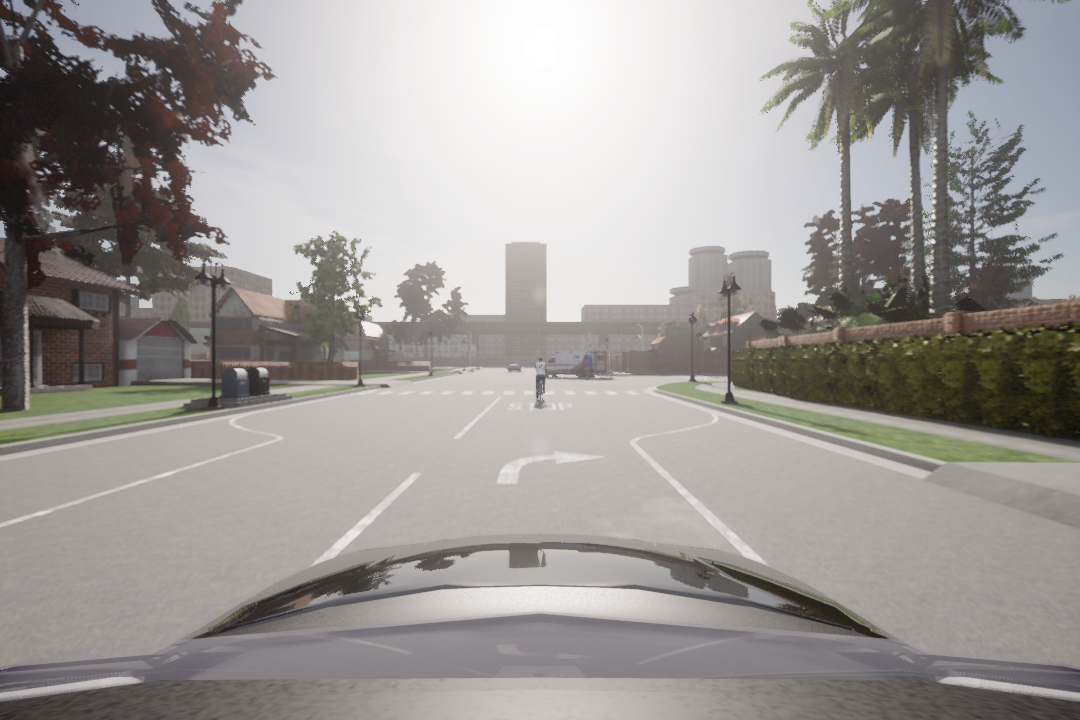RoadSign_right: (494, 447, 607, 484)
walkside: (357, 387, 650, 397)
